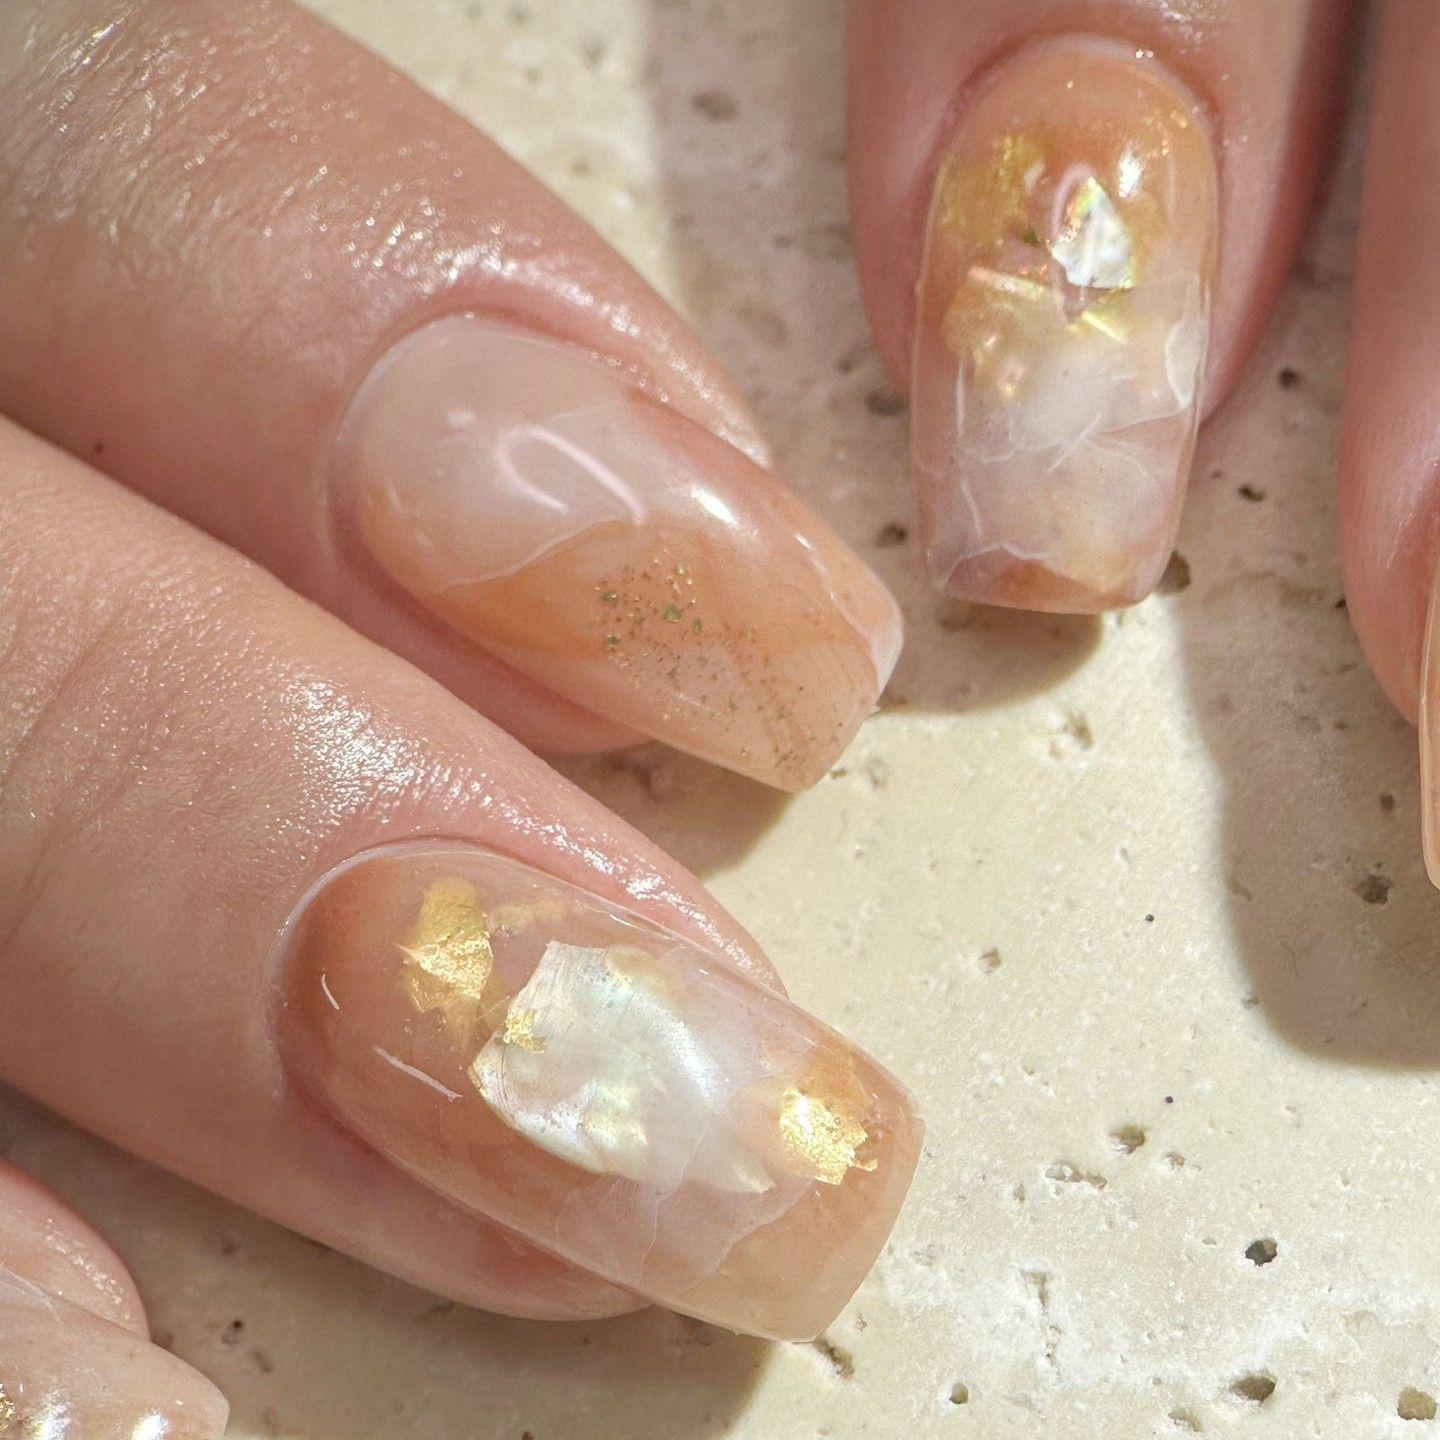nail: (3, 0, 905, 794), (264, 833, 924, 1342), (843, 0, 1357, 616), (326, 305, 906, 793)
